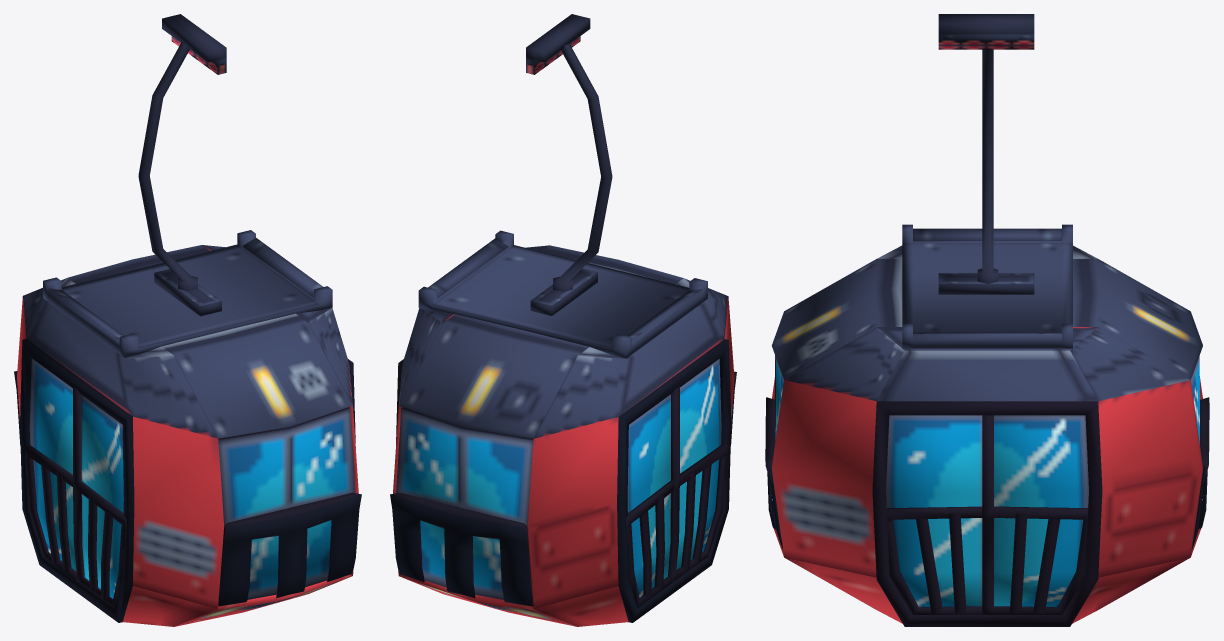
The model's file is Bondinho.fbx.
3 views of the same model, side by side, from view 1: azimuth 30°, elevation 25°; view 2: azimuth 150°, elevation 25°; view 3: azimuth 270°, elevation 25° (orthographic). The views are drawn at different scales.
Visible parts, largest first — view 1: Bondinho; view 2: Bondinho; view 3: Bondinho.
Boxes of the visible parts, bbox=[...] form: Bondinho: bbox=[14, 14, 361, 626]; Bondinho: bbox=[390, 14, 736, 626]; Bondinho: bbox=[765, 14, 1209, 626].
Bounding box in the file's own units: 258 × 422 × 587.
